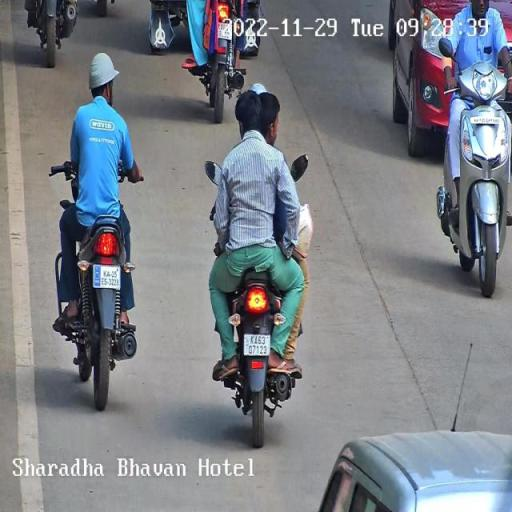tripple riding: (202, 78, 316, 288)
